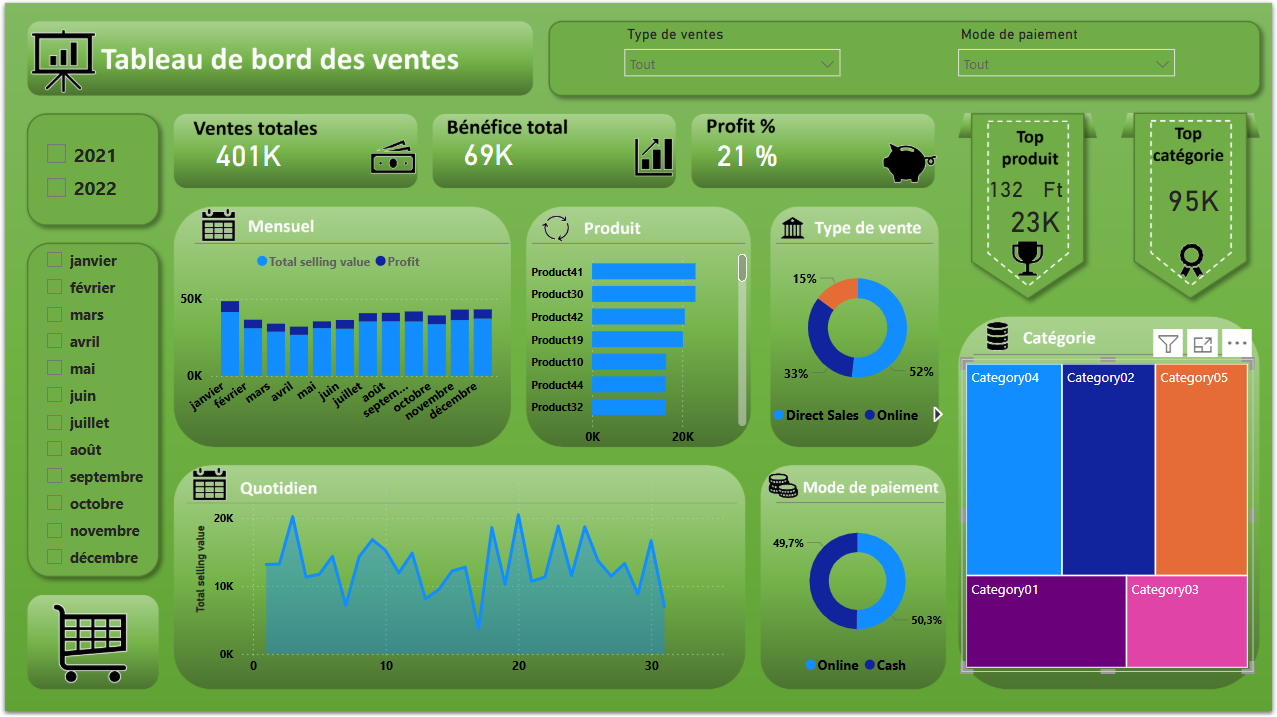

The page's visual inventory and layout, read from the dashboard file:
{"tool":"powerbi","page":{"name":"Page 1","canvas":[1280,720],"ordinal":0},"visuals":[{"type":"slicer","fields":{"Values":["SalesData.Mois"]},"box":[35,242.5,117.5,335],"z":0},{"type":"slicer","fields":{"Values":["SalesData.SALE TYPE"]},"box":[615,21.2,236.2,70],"z":1000},{"type":"slicer","fields":{"Values":["SalesData.PAYMENT MODE"]},"box":[948.8,21.2,237.5,70],"z":2000},{"type":"slicer","fields":{"Values":["SalesData.Année"]},"box":[35,133.8,125,95],"z":3000},{"type":"card","fields":{"Values":["SalesData.Profit"]},"box":[413.8,110,151.2,88.8],"z":4000},{"type":"card","fields":{"Values":["Sum(SalesData.Total selling value)"]},"box":[191.2,133.8,116.2,43.8],"z":5000},{"type":"card","fields":{"Values":["SalesData.Profit %"]},"box":[662.5,111.2,171.2,88.8],"z":6000},{"type":"card","fields":{"Values":["Sum(SalesData.Total selling value)"]},"box":[973.8,190,125,62.5],"z":7000},{"type":"card","fields":{"Values":["Sum(SalesData.Total selling value)"]},"box":[1108.8,156.2,171.2,88.8],"z":8000},{"type":"card","fields":{"Values":["Sum(SalesData.QUANTITY)"]},"box":[973.8,166.2,66.2,48.8],"z":9000},{"type":"card","fields":{"Values":["Min(SalesData.UOM)"]},"box":[1007.5,167.5,93.8,45],"z":10000},{"type":"columnChart","fields":{"Category":["SalesData.Month"],"Y":["Sum(SalesData.Total selling value)","SalesData.Profit"]},"box":[175,242.5,332.5,192.5],"z":11000},{"type":"clusteredBarChart","fields":{"Y":["Sum(SalesData.Total selling value)"],"Category":["SalesData.PRODUCT"]},"box":[526.2,242.5,226.2,213.8],"z":12000},{"type":"areaChart","fields":{"Y":["Sum(SalesData.Total selling value)"],"Category":["SalesData.Day"]},"box":[191.2,471.2,542.5,213.8],"z":13000},{"type":"donutChart","fields":{"Category":["SalesData.SALE TYPE"],"Y":["Sum(SalesData.Total selling value)"]},"box":[768.8,252.5,180,182.5],"z":14000},{"type":"donutChart","fields":{"Y":["Sum(SalesData.Total selling value)"],"Category":["SalesData.PAYMENT MODE"]},"box":[768.8,508.8,180,176.2],"z":15000},{"type":"treemap","fields":{"Values":["Sum(SalesData.Total selling value)"],"Group":["SalesData.CATEGORY"]},"box":[962.5,360,291.2,313.8],"z":16000}]}

Visuals, with their boxes in screenshot pixels (x1, y1, x2, y2), scaled from the page's 1280x720 canvas onto the 1277x717 screenshot:
slicer - SalesData.Mois: {"left": 35, "top": 241, "right": 152, "bottom": 575}
slicer - SalesData.SALE TYPE: {"left": 614, "top": 21, "right": 849, "bottom": 91}
slicer - SalesData.PAYMENT MODE: {"left": 947, "top": 21, "right": 1184, "bottom": 91}
slicer - SalesData.Année: {"left": 35, "top": 133, "right": 160, "bottom": 228}
card - SalesData.Profit: {"left": 413, "top": 110, "right": 564, "bottom": 198}
card - Sum(SalesData.Total selling value): {"left": 191, "top": 133, "right": 307, "bottom": 177}
card - SalesData.Profit %: {"left": 661, "top": 111, "right": 832, "bottom": 199}
card - Sum(SalesData.Total selling value): {"left": 972, "top": 189, "right": 1096, "bottom": 251}
card - Sum(SalesData.Total selling value): {"left": 1106, "top": 156, "right": 1276, "bottom": 244}
card - Sum(SalesData.QUANTITY): {"left": 972, "top": 166, "right": 1038, "bottom": 214}
card - Min(SalesData.UOM): {"left": 1005, "top": 167, "right": 1099, "bottom": 212}
columnChart - SalesData.Month x Sum(SalesData.Total selling value): {"left": 175, "top": 241, "right": 506, "bottom": 433}
clusteredBarChart - Sum(SalesData.Total selling value) x SalesData.PRODUCT: {"left": 525, "top": 241, "right": 751, "bottom": 454}
areaChart - Sum(SalesData.Total selling value) x SalesData.Day: {"left": 191, "top": 469, "right": 732, "bottom": 682}
donutChart - SalesData.SALE TYPE x Sum(SalesData.Total selling value): {"left": 767, "top": 251, "right": 947, "bottom": 433}
donutChart - Sum(SalesData.Total selling value) x SalesData.PAYMENT MODE: {"left": 767, "top": 507, "right": 947, "bottom": 682}
treemap - Sum(SalesData.Total selling value) x SalesData.CATEGORY: {"left": 960, "top": 358, "right": 1251, "bottom": 671}
